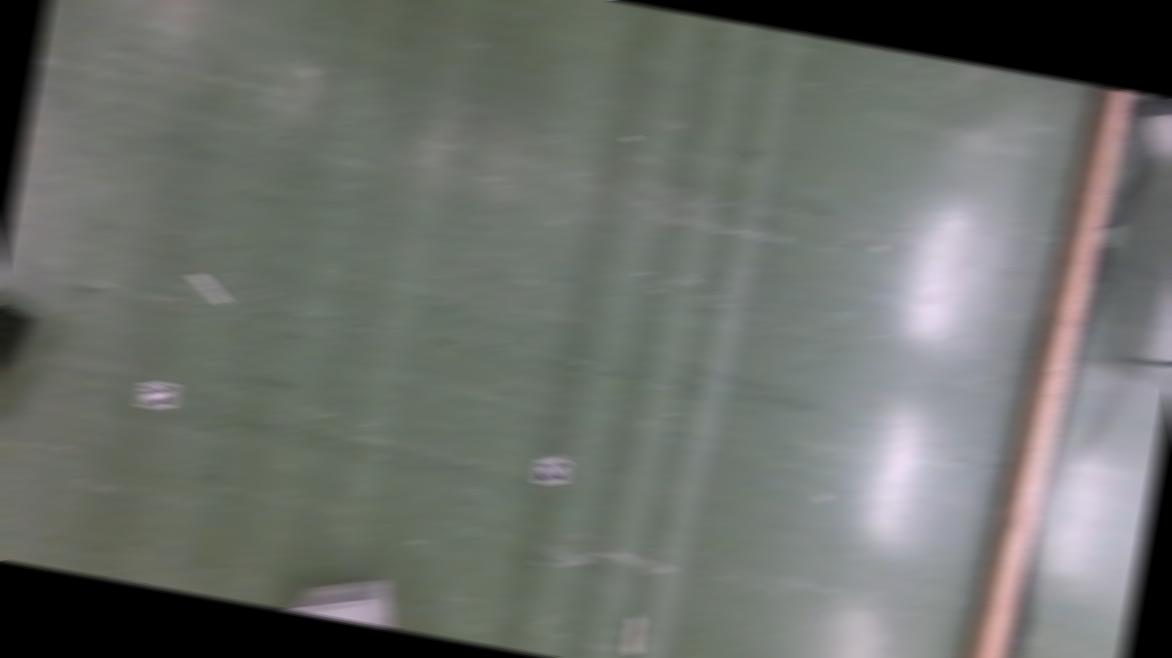probes: (186, 270, 234, 304), (621, 612, 648, 658)
rako: (284, 562, 412, 630), (0, 293, 36, 433)
